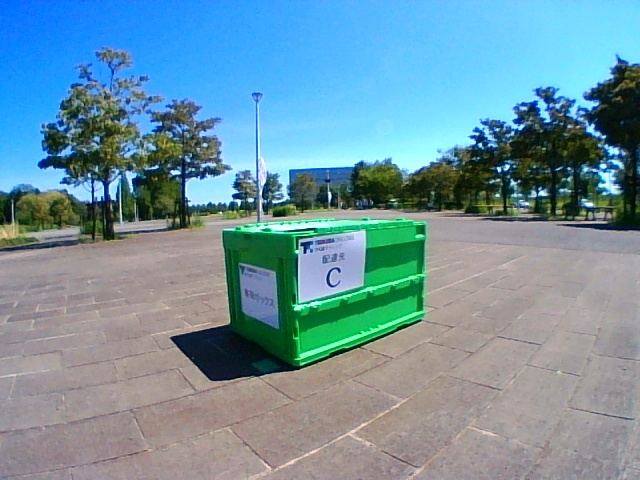green_box: (223, 218, 427, 365)
tag_c: (309, 250, 356, 289)
